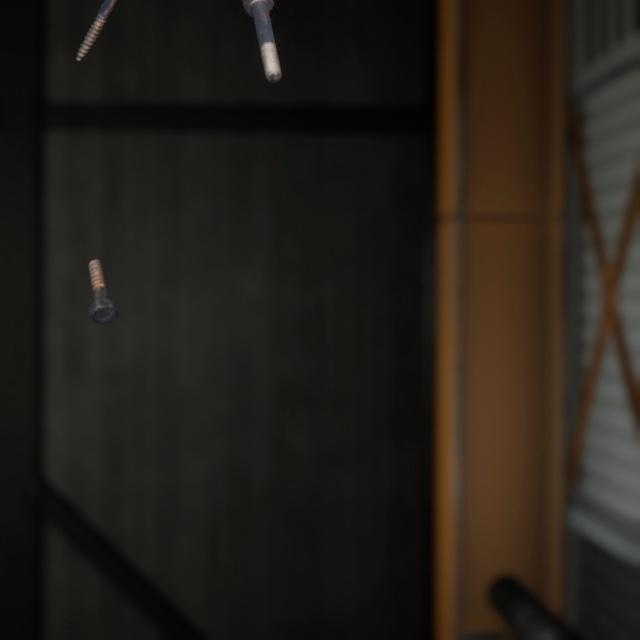bolt: (240, 0, 286, 77), (83, 238, 123, 311), (71, 0, 119, 57)
